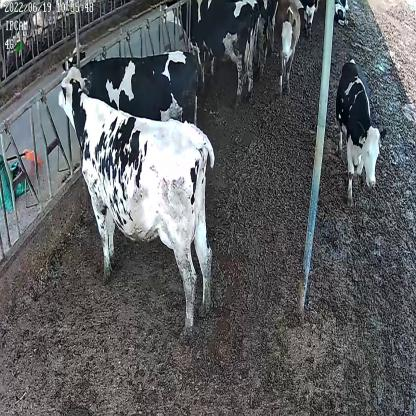cow: (55, 70, 217, 337), (58, 43, 205, 121), (160, 0, 260, 104), (333, 57, 387, 212), (270, 0, 300, 98), (334, 0, 350, 28)
